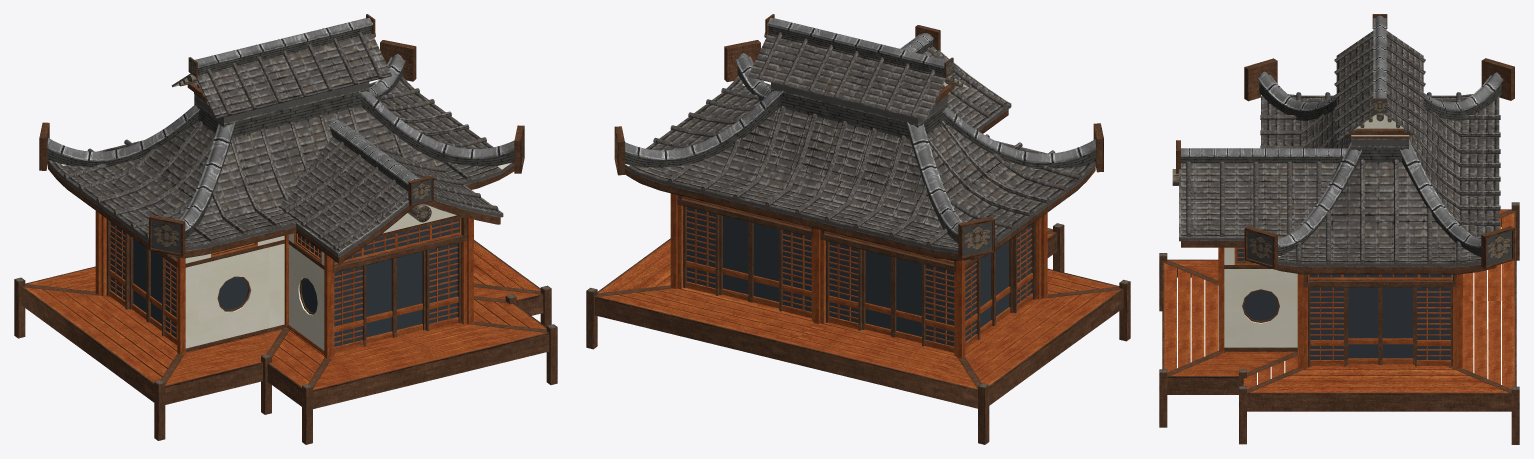
File: house_japanese2.glb
3 renders of one model, left to right at view 1: azimuth 30°, elevation 25°; view 2: azimuth 150°, elevation 25°; view 3: azimuth 270°, elevation 25°, orthographic. The views are drawn at different scales.
Bounding box in the file's own units: 13 × 9.5 × 10.56.
Materials: 2 (1 with a texture image).
